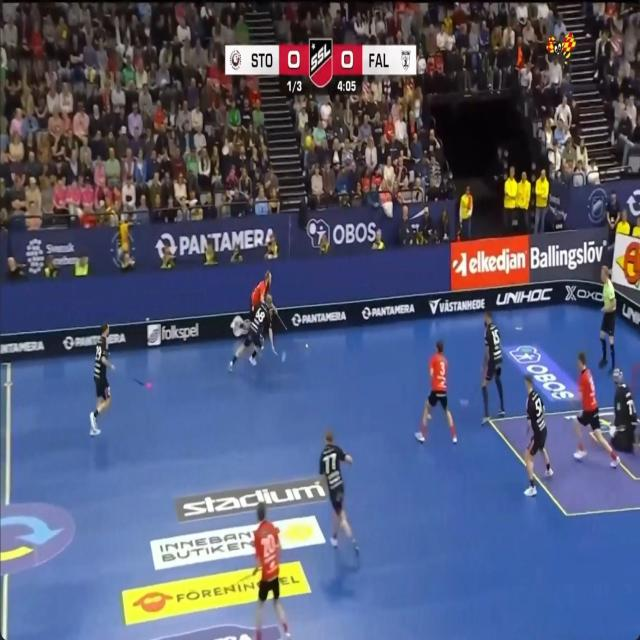Balls: (305, 343, 308, 347)
player: (573, 352, 620, 467), (253, 502, 289, 639), (320, 429, 359, 553), (415, 339, 456, 442), (229, 294, 276, 371), (524, 374, 553, 496), (90, 323, 114, 436), (481, 311, 505, 423), (611, 368, 638, 452), (598, 265, 615, 372), (250, 271, 271, 312)
stick: (234, 571, 255, 585), (275, 311, 287, 331), (132, 377, 145, 385)
